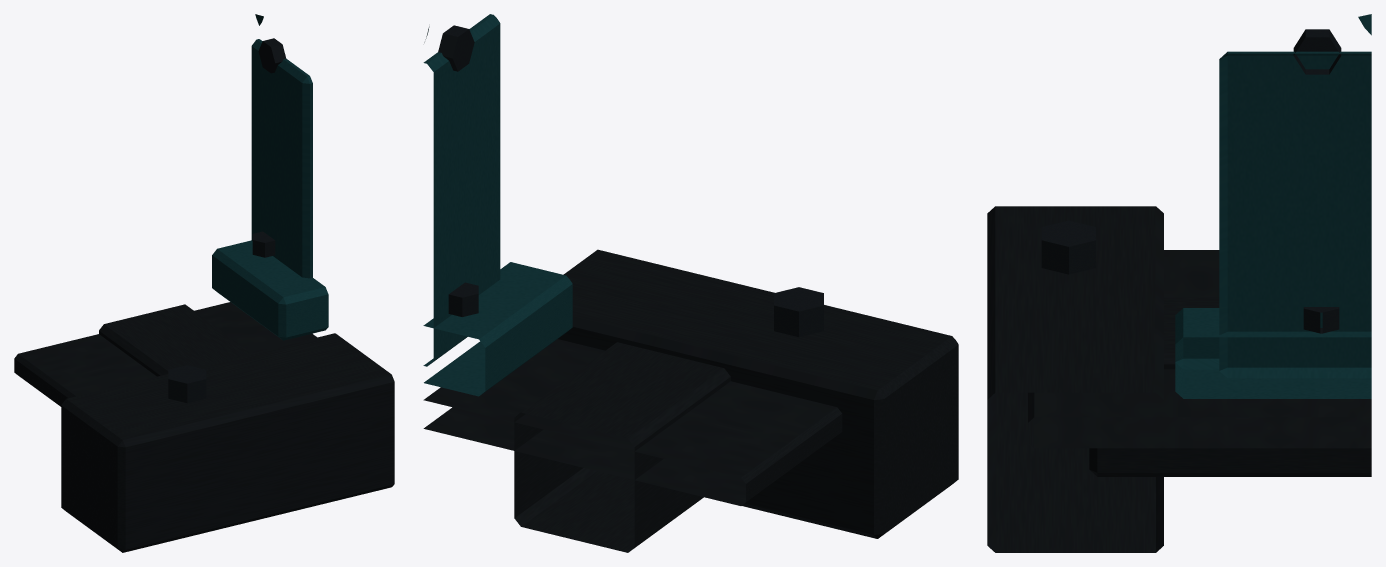
Rendered from cell_12.obj.
3 renders of one model, left to right at view 1: azimuth 30°, elevation 25°; view 2: azimuth 150°, elevation 25°; view 3: azimuth 270°, elevation 25°, orthographic. The views are drawn at different scales.
Parts seen in each view (by area): view 1: cell_12; view 2: cell_12; view 3: cell_12.
Boxes of the visible parts, bbox=[...] form: cell_12: bbox=[14, 14, 394, 552]; cell_12: bbox=[423, 14, 958, 552]; cell_12: bbox=[987, 14, 1371, 552].
Size of the model in its own units: 0.76 by 1 by 0.65.
